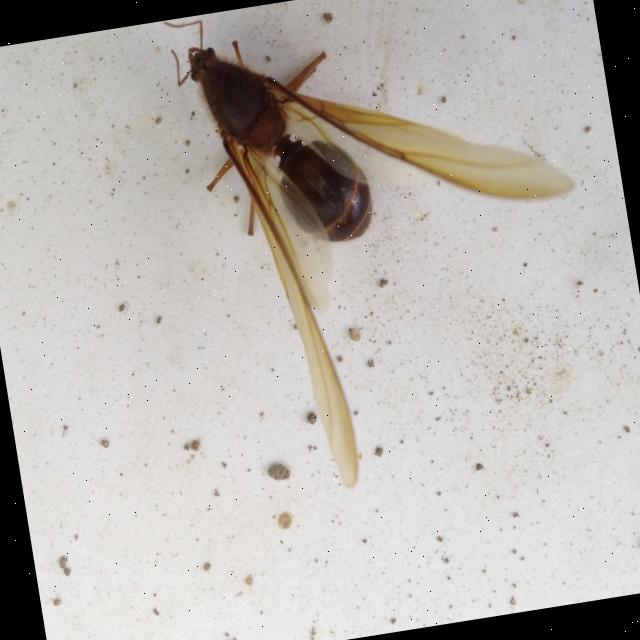Dead-Male-Alate: (162, 0, 618, 506)
